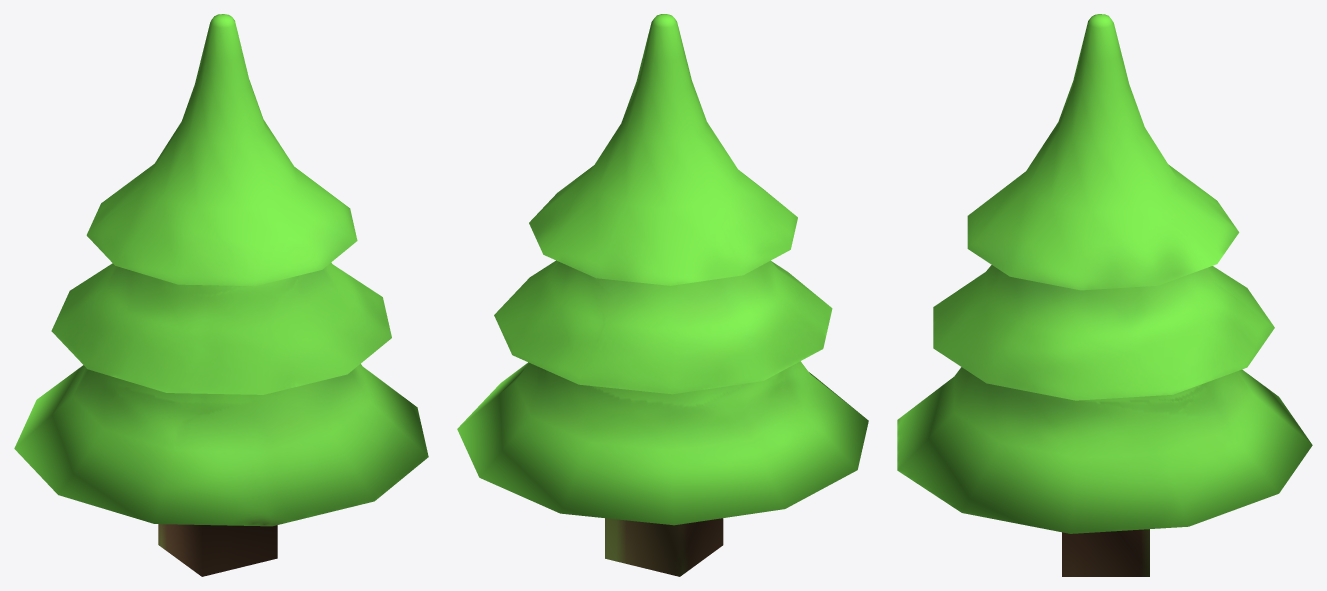
Rendered from tree 9.fbx.
3 renders of one model, left to right at view 1: azimuth 30°, elevation 25°; view 2: azimuth 150°, elevation 25°; view 3: azimuth 270°, elevation 25°, orthographic.
Visible parts, largest first — view 1: Circle; view 2: Circle; view 3: Circle.
Part boxes in pixels (bbox=[...]): Circle: bbox=[14, 14, 428, 576]; Circle: bbox=[457, 14, 868, 576]; Circle: bbox=[897, 14, 1312, 576].
Size of the model in its own units: 215 by 307 by 213.
